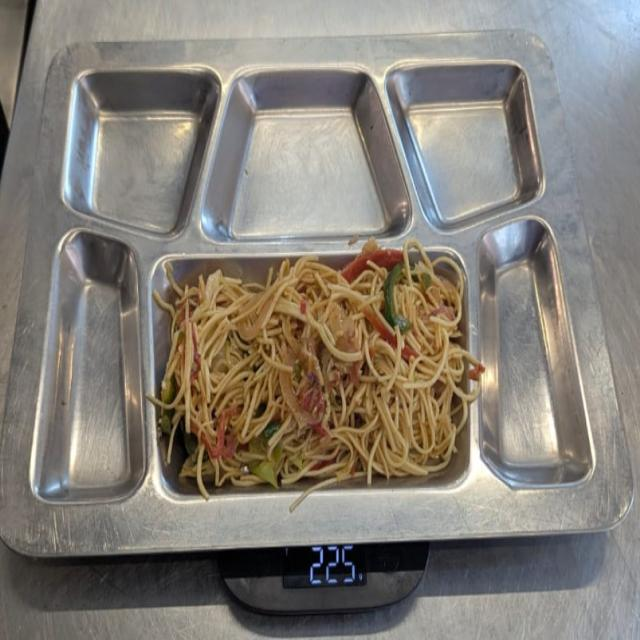Noodles: (178, 286, 456, 480)
